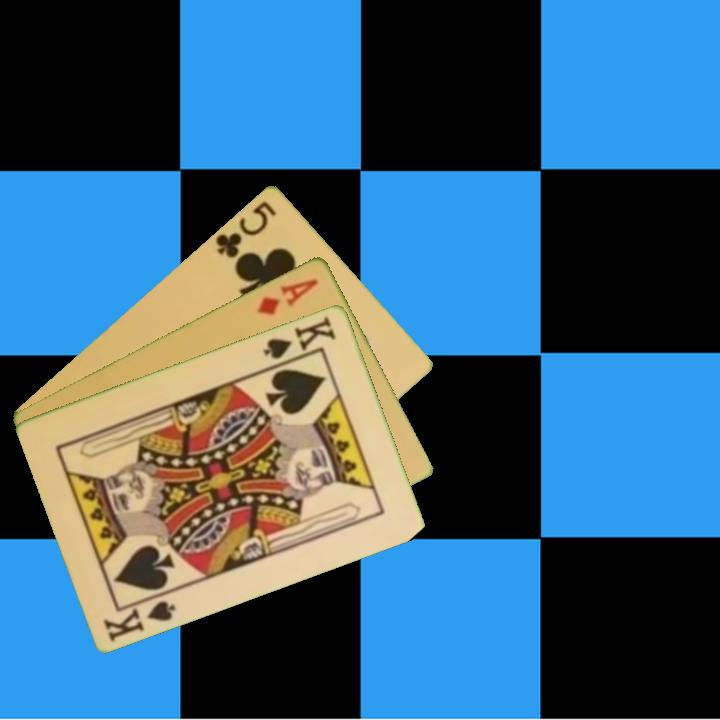5c: (211, 196, 279, 261)
Ad: (253, 274, 321, 318)
Ks: (260, 311, 339, 369), (100, 587, 179, 645)
